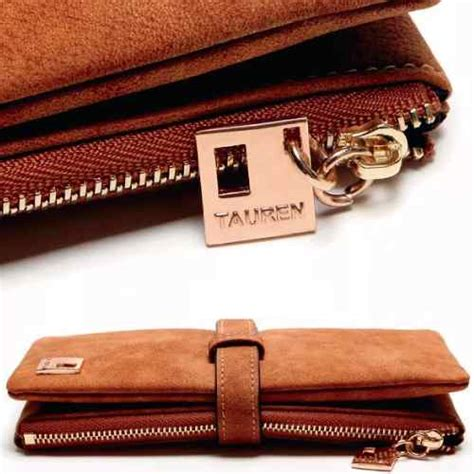gamuza: (1, 1, 470, 398)
